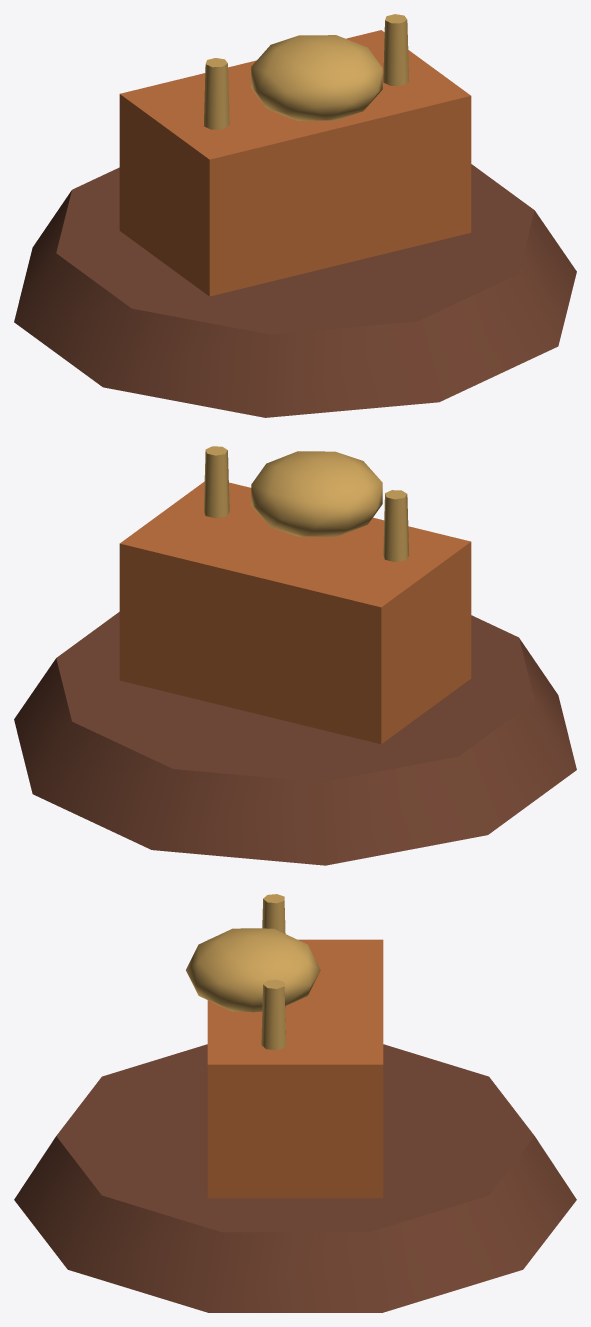
File: sanctuary.glb
3 views of the same model, one above another, from view 1: azimuth 30°, elevation 25°; view 2: azimuth 150°, elevation 25°; view 3: azimuth 270°, elevation 25° (orthographic). The views are drawn at different scales.
Parts seen in each view (by area): view 1: base, altar, emblem, candle_-1, candle_1; view 2: base, altar, emblem, candle_1, candle_-1; view 3: base, altar, emblem, candle_1, candle_-1.
Boxes of the visible parts, box(x1,y1,x2,y2) form: base: box(14, 164, 576, 417); altar: box(119, 30, 471, 296); emblem: box(251, 35, 382, 120); candle_-1: box(204, 58, 229, 129); candle_1: box(383, 14, 409, 85); base: box(14, 612, 576, 865); altar: box(119, 481, 471, 744); emblem: box(251, 451, 382, 536); candle_1: box(204, 446, 229, 518); candle_-1: box(383, 490, 409, 561); base: box(14, 1044, 576, 1312); altar: box(207, 939, 383, 1198); emblem: box(186, 928, 320, 1012); candle_1: box(261, 979, 285, 1050); candle_-1: box(262, 894, 285, 933).
Size of what is drawn, in the model's own units: 3.8 by 2.06 by 4.
